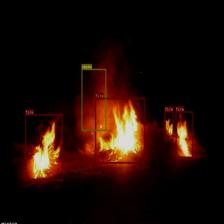fire: (95, 98, 145, 163), (25, 114, 63, 180), (175, 111, 193, 158), (164, 111, 174, 140)
smoke: (81, 68, 106, 131)
